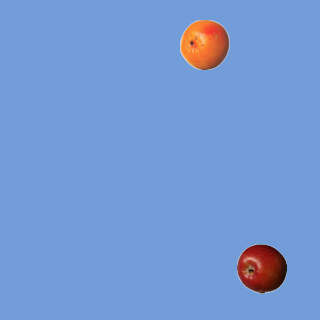Apple Braeburn: (236, 243, 286, 293)
Grapefruit Pink: (179, 19, 229, 69)
